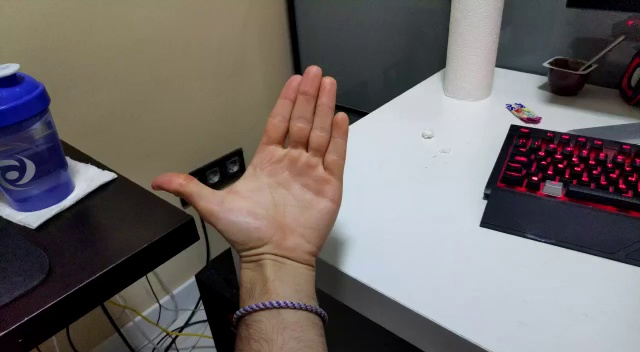Palm: (149, 45, 352, 251)
